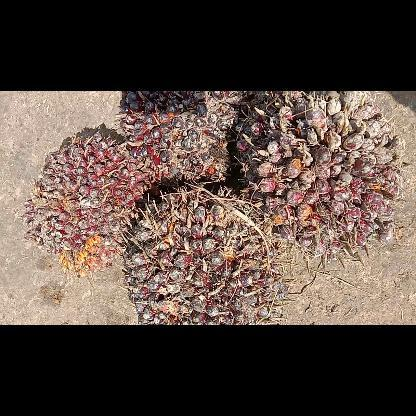Kurang masak: (234, 91, 408, 259), (122, 180, 286, 324), (21, 130, 163, 276), (117, 92, 253, 180)
